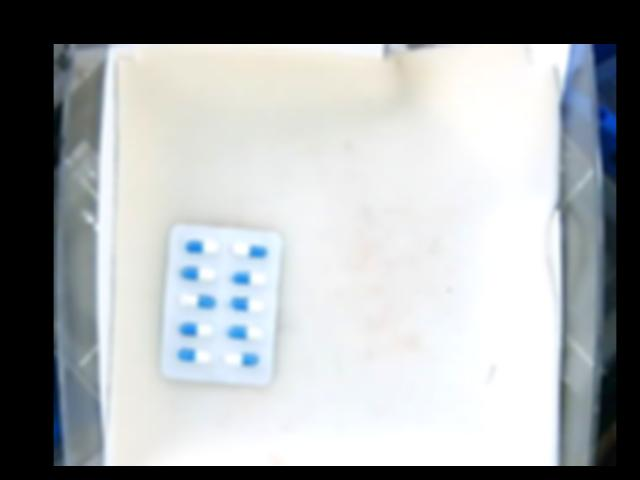Medicine: (160, 222, 280, 384)
